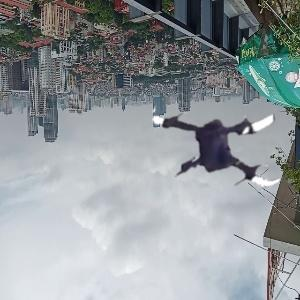drone: (151, 64, 300, 214)
